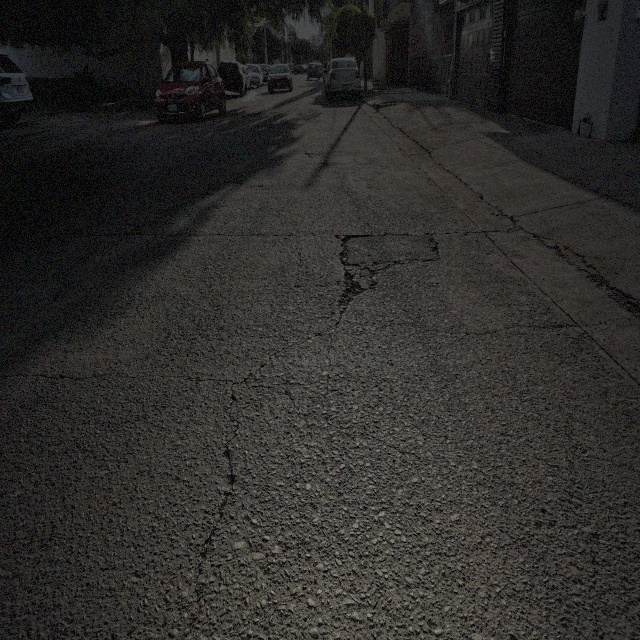pothole: (336, 267, 366, 321), (337, 234, 356, 269), (429, 242, 442, 262)
